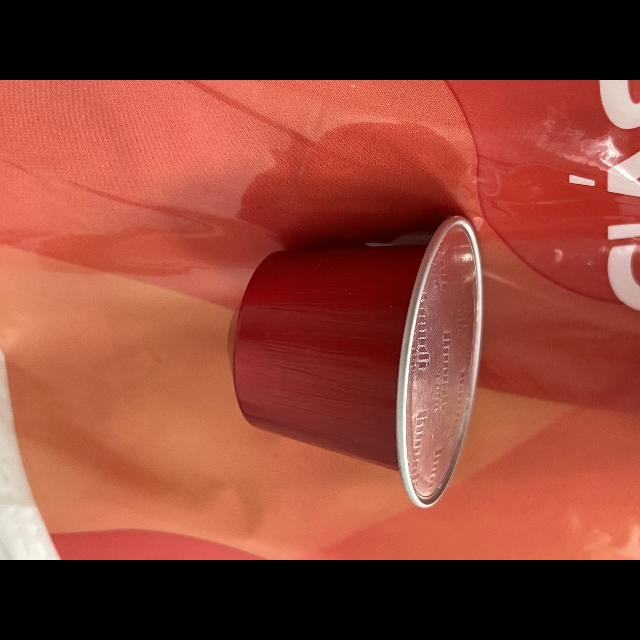intact_capsule: (220, 192, 504, 516)
